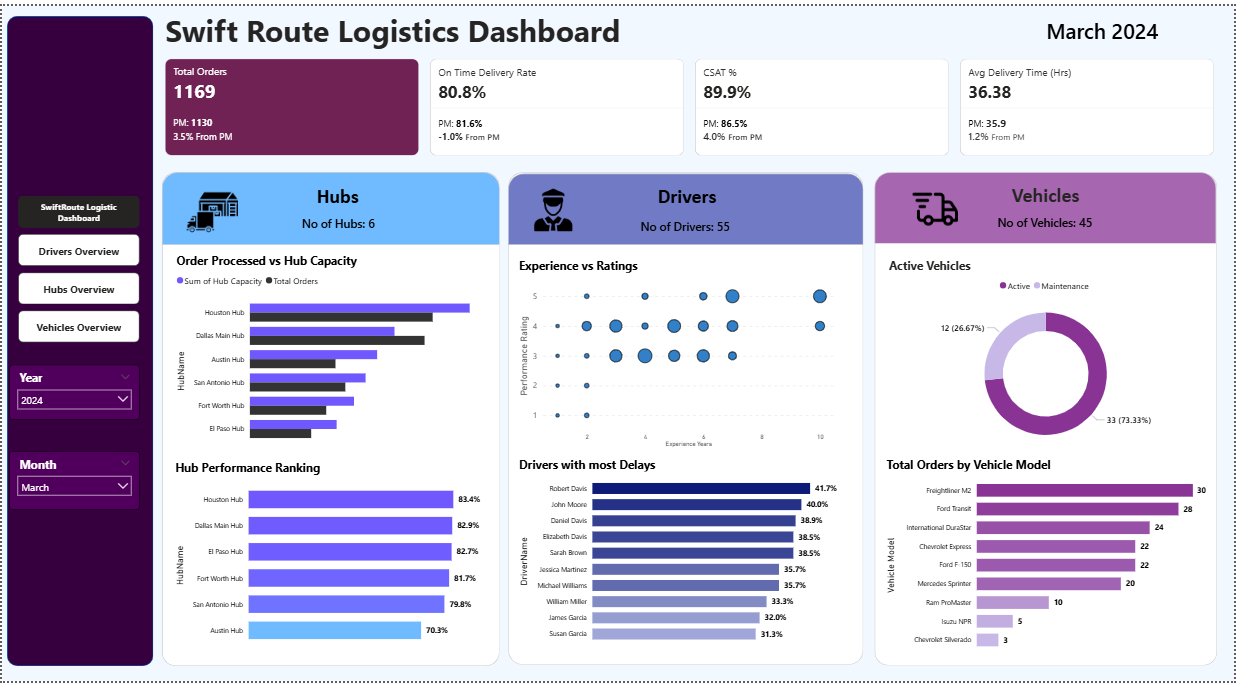

The page's visual inventory and layout, read from the dashboard file:
{"tool":"powerbi","page":{"name":"SwiftRoute Logistic Dashboard","canvas":[1970,1080],"ordinal":0},"visuals":[{"type":"shape","box":[8,16,234,1040],"z":0},{"type":"textbox","box":[256,0,838,90],"z":1000},{"type":"cardVisual","fields":{"Data":["Orders.Total Orders","Orders.On Time Delivery Rate","Orders.CSAT %","Orders.Avg Delivery Time (Hrs)"]},"box":[256,74,1688,170],"z":2000},{"type":"slicer","fields":{"Values":["Date Table.Month"]},"box":[12,712,208,94],"z":3000},{"type":"slicer","fields":{"Values":["Date Table.Year"]},"box":[12,574,208,88],"z":4000},{"type":"shape","box":[256,266,540,790],"z":5000},{"type":"shape","box":[256,266,540,116],"z":6000},{"type":"textbox","box":[398,280,278,54],"z":7000},{"type":"cardVisual","fields":{"Data":["Hubs.No of hubs"]},"box":[328,316,420,60],"z":8000},{"type":"clusteredBarChart","title":"Order Processed vs Hub Capacity","fields":{"Category":["Hubs.HubName"],"Y":["Sum(Hubs.Hub Capacity)","Orders.Total Orders"]},"box":[274,394,498,318],"z":9000},{"type":"barChart","title":"Hub Performance Ranking","fields":{"Category":["Hubs.HubName"],"Y":["Orders.On Time Delivery Rate"]},"box":[272,726,500,310],"z":10000},{"type":"shape","box":[810,266,568,788],"z":11000},{"type":"shape","box":[810,268,568,114],"z":12000},{"type":"shape","box":[1395.2,267.8,548.3,787.2],"z":13000},{"type":"shape","box":[1395.2,266,546.5,114],"z":14000},{"type":"cardVisual","fields":{"Data":["Drivers.No of Driver"]},"box":[882,322,422,58],"z":15000},{"type":"textbox","box":[1044,280,300,58],"z":16000},{"type":"scatterChart","title":"Experience vs Ratings","fields":{"X":["Drivers.Experience Years"],"Y":["Drivers.Performance Rating"],"Size":["Sum(Drivers.Experience Years)1"]},"box":[821.6,401.7,521.2,309.5],"z":17000},{"type":"barChart","fields":{"Category":["Vehicles.Vehicle Model"],"Y":["Orders.Total Orders"]},"box":[1409.7,720.2,521.2,322.1],"z":18000},{"type":"textbox","box":[1485.7,278.7,367.4,56.1],"z":19000},{"type":"cardVisual","fields":{"Data":["Vehicles.No of Vehicles"]},"box":[1458.6,316.7,421.7,57.9],"z":20000},{"type":"donutChart","title":"Active Vehicles","fields":{"Category":["Vehicles.Vehicle Status"],"Y":["CountNonNull(Vehicles.Vehicle ID)"]},"box":[1413.3,401.7,512.1,318.5],"z":21000},{"type":"barChart","title":"Drivers with most Delays","fields":{"Category":["Drivers.DriverName"],"Y":["Orders.Delayed Delivery Rate"]},"box":[821.6,720.2,521.2,309.5],"z":22000},{"type":"cardVisual","fields":{"Data":["Orders.Year Month Title"]},"box":[1549.1,0,421.7,74.2],"z":24000},{"type":"pageNavigator","box":[26,304,194,236],"z":25000},{"type":"image","box":[1436,286,114,78],"z":26000},{"type":"image","box":[274,284,124,92],"z":27000},{"type":"image","box":[848,270,68,112],"z":28000}]}

Visuals, with their boxes on the page's 1970x1080 design canvas (x1, y1, x2, y2). These are canvas units, not pixel positions in the 1236x685 screenshot, which may show the page scaled, cropped or inside an application window:
shape: (left=8, top=16, right=242, bottom=1056)
textbox: (left=256, top=0, right=1094, bottom=90)
cardVisual - Orders.Total Orders x Orders.On Time Delivery Rate: (left=256, top=74, right=1944, bottom=244)
slicer - Date Table.Month: (left=12, top=712, right=220, bottom=806)
slicer - Date Table.Year: (left=12, top=574, right=220, bottom=662)
shape: (left=256, top=266, right=796, bottom=1056)
shape: (left=256, top=266, right=796, bottom=382)
textbox: (left=398, top=280, right=676, bottom=334)
cardVisual - Hubs.No of hubs: (left=328, top=316, right=748, bottom=376)
"Order Processed vs Hub Capacity" clusteredBarChart: (left=274, top=394, right=772, bottom=712)
"Hub Performance Ranking" barChart: (left=272, top=726, right=772, bottom=1036)
shape: (left=810, top=266, right=1378, bottom=1054)
shape: (left=810, top=268, right=1378, bottom=382)
shape: (left=1395, top=268, right=1944, bottom=1055)
shape: (left=1395, top=266, right=1942, bottom=380)
cardVisual - Drivers.No of Driver: (left=882, top=322, right=1304, bottom=380)
textbox: (left=1044, top=280, right=1344, bottom=338)
"Experience vs Ratings" scatterChart: (left=822, top=402, right=1343, bottom=711)
barChart - Vehicles.Vehicle Model x Orders.Total Orders: (left=1410, top=720, right=1931, bottom=1042)
textbox: (left=1486, top=279, right=1853, bottom=335)
cardVisual - Vehicles.No of Vehicles: (left=1459, top=317, right=1880, bottom=375)
"Active Vehicles" donutChart: (left=1413, top=402, right=1925, bottom=720)
"Drivers with most Delays" barChart: (left=822, top=720, right=1343, bottom=1030)
cardVisual - Orders.Year Month Title: (left=1549, top=0, right=1971, bottom=74)
pageNavigator: (left=26, top=304, right=220, bottom=540)
image: (left=1436, top=286, right=1550, bottom=364)
image: (left=274, top=284, right=398, bottom=376)
image: (left=848, top=270, right=916, bottom=382)
